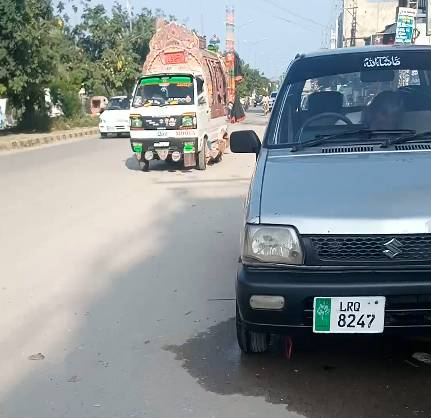number_plate: (312, 296, 386, 335)
